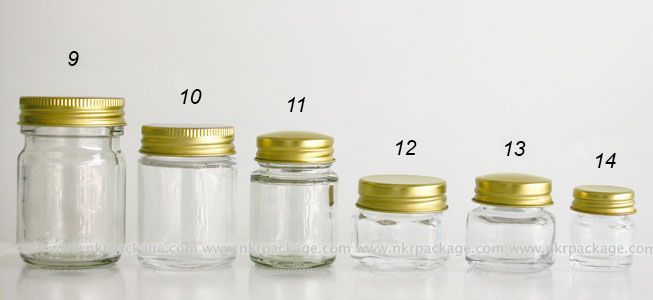glass_bottle: (10, 93, 131, 274), (129, 119, 238, 276), (245, 129, 343, 273), (347, 172, 452, 277), (457, 171, 561, 275), (563, 183, 638, 271)
